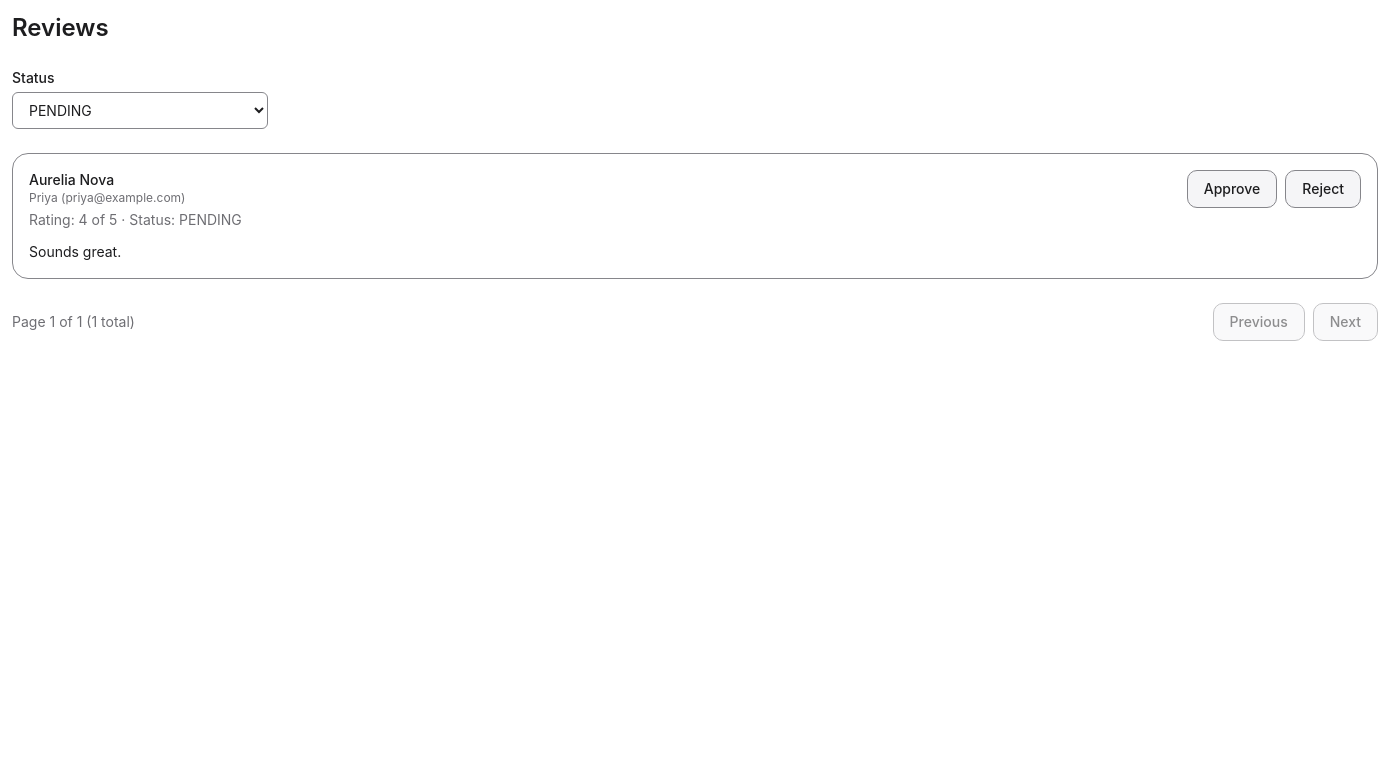
Test case: AdminReviewsPage › approves a review and removes it from the pending list
Click the button with aria-label "Approve review": (1232, 189) left=1187, top=170, right=1277, bottom=208
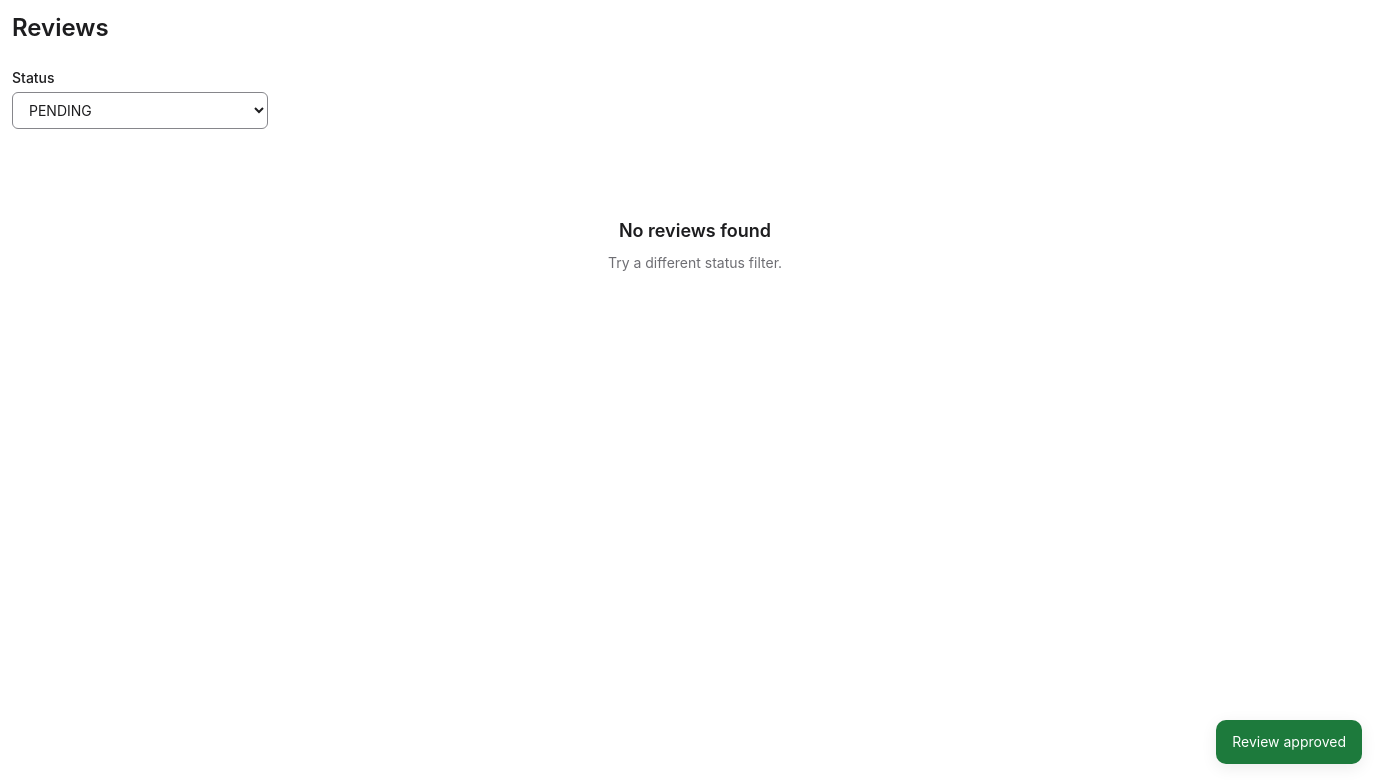
Expected: the text "Review approved" is shown, left=1216, top=720, right=1362, bottom=764
Expected: the text "Aurelia Nova" is gone
